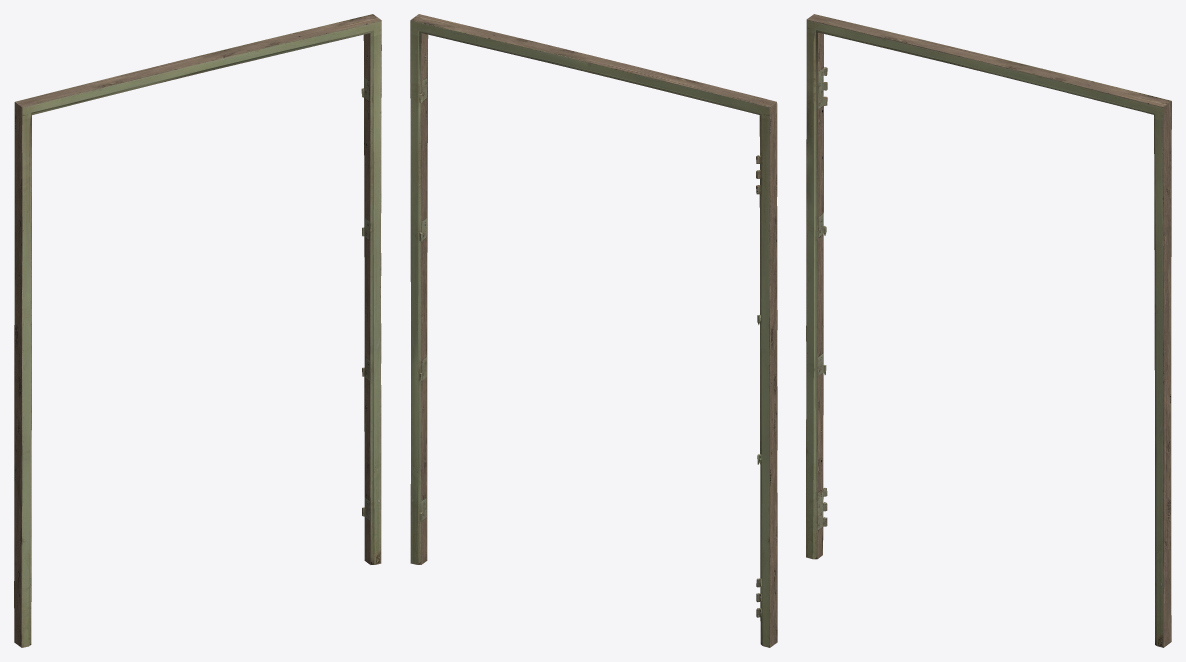
Rendered from door-set-painted-double.glb.
3 renders of one model, left to right at view 1: azimuth 30°, elevation 25°; view 2: azimuth 150°, elevation 25°; view 3: azimuth 330°, elevation 25°, orthographic.
Parts seen in each view (by area): view 1: door-set-painted-double; view 2: door-set-painted-double; view 3: door-set-painted-double.
Boxes of the visible parts, x1=… form: door-set-painted-double: x1=14, y1=14, x2=381, y2=647; door-set-painted-double: x1=410, y1=14, x2=777, y2=647; door-set-painted-double: x1=806, y1=14, x2=1171, y2=647.
Bounding box in the file's own units: 1.54 × 2.23 × 0.0722.
Materials: 1 (1 with a texture image).
